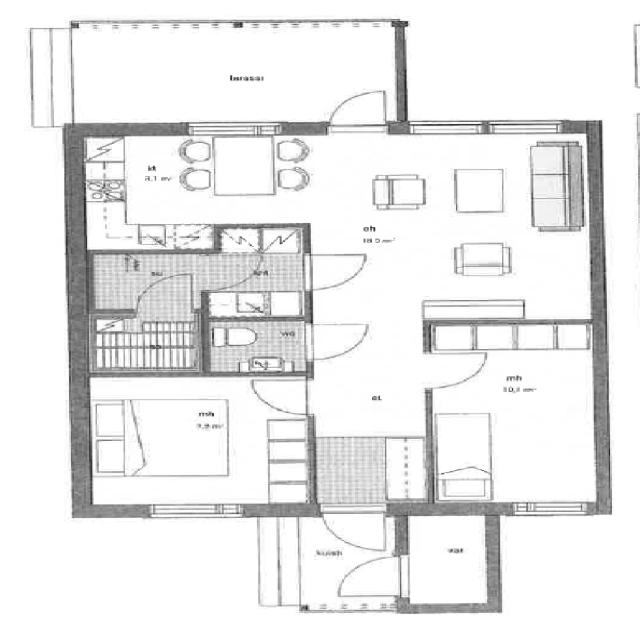door: (293, 494, 399, 554), (297, 554, 411, 602), (403, 346, 493, 392), (239, 374, 329, 418), (118, 272, 197, 320), (298, 248, 369, 299), (294, 322, 368, 363), (329, 86, 392, 134), (199, 250, 256, 289)
window: (492, 111, 577, 150), (132, 499, 244, 525), (404, 115, 492, 146), (499, 499, 602, 523), (184, 121, 301, 137)
zone: (69, 137, 617, 250), (73, 370, 309, 512), (425, 342, 598, 506), (403, 508, 500, 618), (202, 316, 307, 377)
